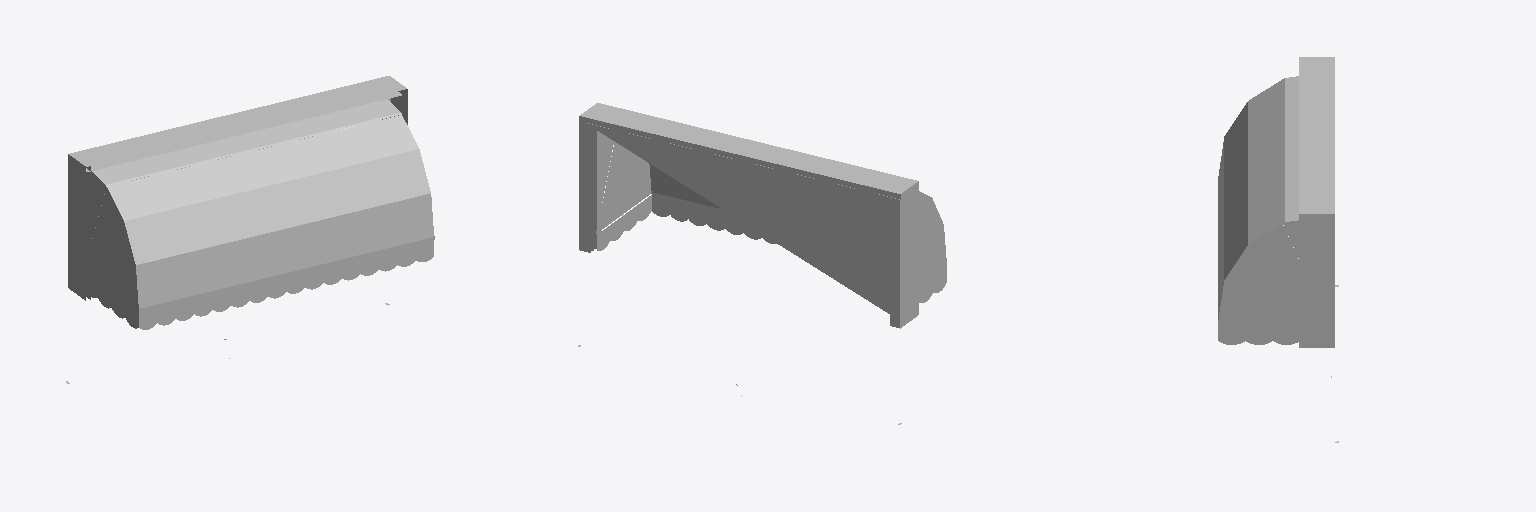
3 views of the same model, side by side, from view 1: azimuth 30°, elevation 25°; view 2: azimuth 150°, elevation 25°; view 3: azimuth 270°, elevation 25° (orthographic).
Visible parts, largest first — view 1: SketchUp, SketchUp.001, SketchUp.007, Object_154, SketchUp.014, SketchUp.006, SketchUp.004, SketchUp.008; view 2: Object_154, SketchUp.014, SketchUp.001, SketchUp, SketchUp.007, SketchUp.006; view 3: Object_154, SketchUp.007, SketchUp, SketchUp.001, SketchUp.006, SketchUp.014.
Boxes of the visible parts, x1=… form: SketchUp: x1=91, y1=151, x2=430, y2=268; SketchUp.001: x1=91, y1=195, x2=433, y2=308; SketchUp.007: x1=91, y1=115, x2=418, y2=259; Object_154: x1=68, y1=76, x2=407, y2=300; SketchUp.014: x1=91, y1=240, x2=433, y2=329; SketchUp.006: x1=91, y1=99, x2=400, y2=239; SketchUp.004: x1=91, y1=113, x2=401, y2=241; SketchUp.008: x1=141, y1=236, x2=434, y2=310; Object_154: x1=579, y1=103, x2=918, y2=328; SketchUp.014: x1=597, y1=195, x2=946, y2=302; SketchUp.001: x1=597, y1=160, x2=946, y2=283; SketchUp: x1=597, y1=150, x2=943, y2=261; SketchUp.007: x1=597, y1=141, x2=931, y2=230; SketchUp.006: x1=597, y1=132, x2=613, y2=227; Object_154: x1=1299, y1=57, x2=1334, y2=347; SketchUp.007: x1=1248, y1=79, x2=1298, y2=293; SketchUp: x1=1224, y1=103, x2=1298, y2=310; SketchUp.001: x1=1218, y1=142, x2=1298, y2=322; SketchUp.006: x1=1285, y1=76, x2=1298, y2=254; SketchUp.014: x1=1218, y1=325, x2=1298, y2=344.
Size of the model in its own units: 3.49 by 2.5 by 1.16.